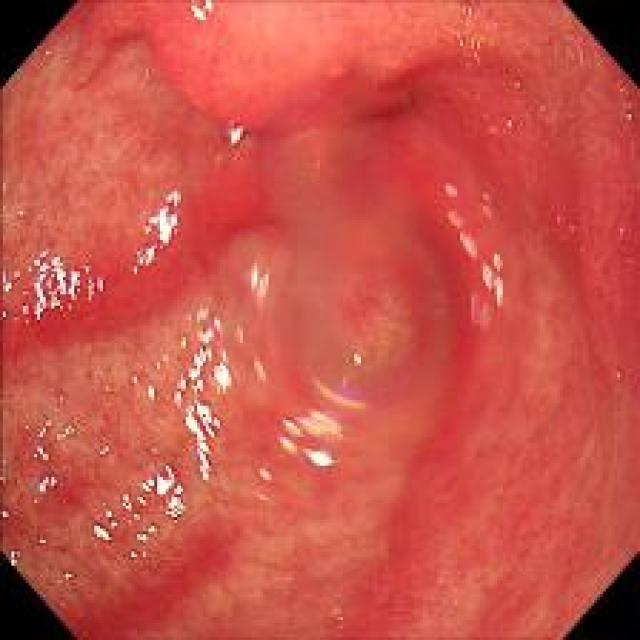blur: (171, 79, 482, 530)
color misalignment: (314, 379, 370, 411), (281, 409, 345, 436), (224, 118, 248, 150), (478, 191, 492, 220)
specularity: (168, 310, 240, 488), (28, 246, 104, 324), (131, 188, 179, 275), (276, 406, 341, 468), (476, 251, 511, 308), (446, 210, 476, 260), (246, 264, 274, 311), (451, 30, 482, 69), (139, 476, 182, 498), (468, 289, 490, 328), (188, 1, 218, 25), (118, 489, 145, 515), (165, 489, 184, 518), (160, 464, 176, 494), (135, 521, 158, 541), (91, 522, 110, 542), (54, 422, 75, 440), (39, 475, 56, 492), (145, 384, 160, 402), (440, 181, 458, 196), (105, 506, 118, 526), (1, 269, 11, 294), (38, 420, 50, 440), (36, 444, 49, 461), (8, 550, 20, 568), (129, 371, 144, 384), (96, 444, 111, 456), (461, 2, 472, 18), (255, 492, 268, 505), (259, 468, 272, 480), (61, 571, 74, 582), (511, 79, 521, 91), (21, 302, 30, 315), (504, 116, 512, 130), (16, 208, 26, 218), (129, 549, 139, 558), (0, 510, 9, 519), (14, 270, 20, 278)
